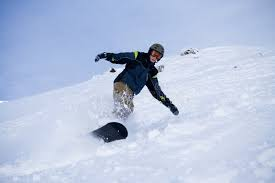snowboarder: (73, 29, 196, 160)
